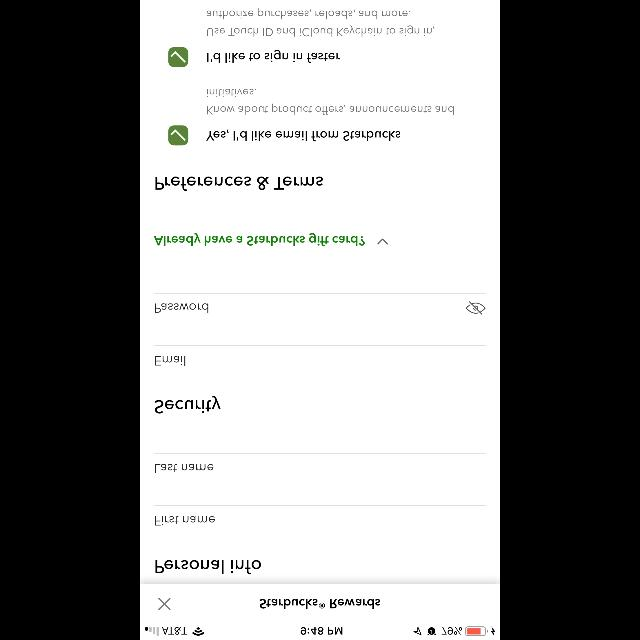checkbox: (168, 46, 188, 68), (168, 125, 188, 145)
icon: (466, 302, 486, 314), (159, 598, 171, 610), (378, 238, 388, 244)
input: (154, 504, 486, 526), (154, 344, 486, 366), (154, 293, 486, 315), (154, 452, 486, 473)
text: (208, 89, 454, 115), (207, 8, 435, 36), (153, 234, 364, 246), (156, 177, 322, 191), (206, 130, 400, 140), (208, 50, 340, 64), (155, 560, 261, 574), (260, 599, 380, 609), (155, 395, 221, 413), (155, 516, 215, 526), (155, 463, 213, 472), (156, 303, 208, 313), (155, 356, 185, 366)
uppertaskbar: (140, 626, 500, 640)
